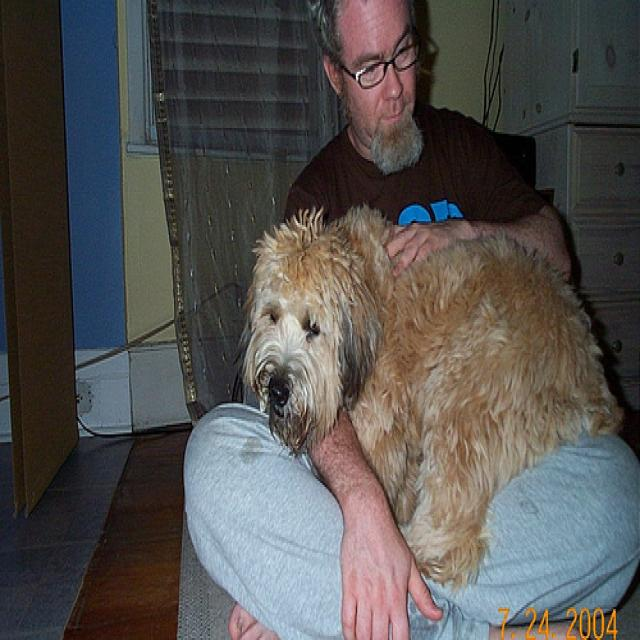dog: (247, 233, 376, 440)
